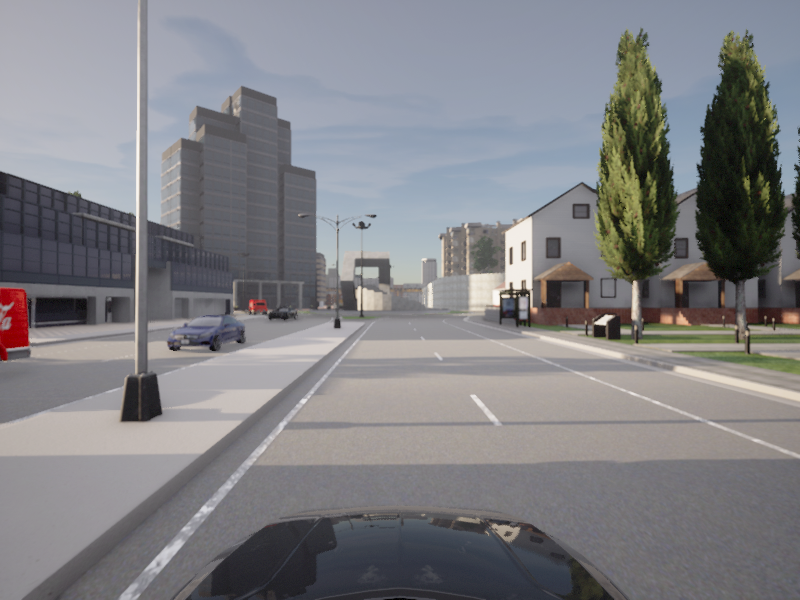vehicle: (0, 272, 37, 428), (161, 313, 250, 353), (264, 305, 300, 321)
